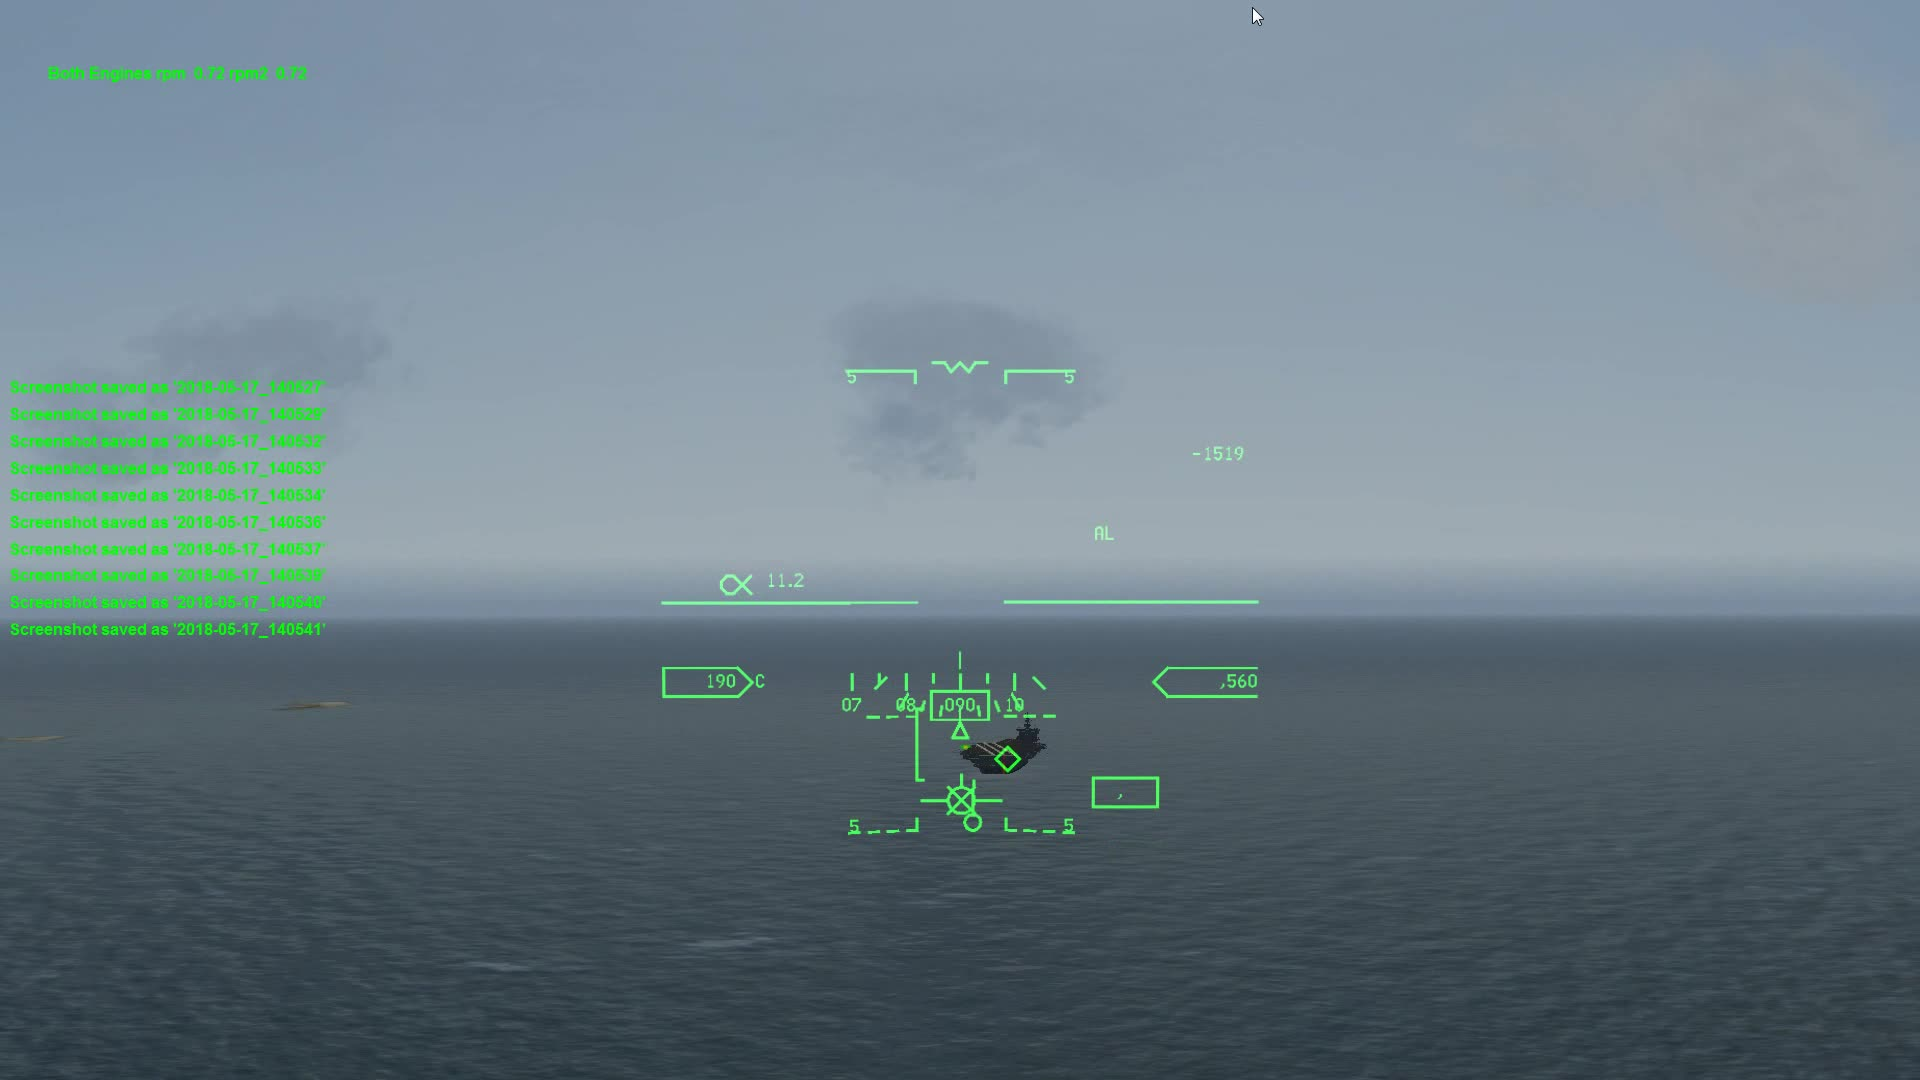speed vector: (924, 775, 1011, 822)
